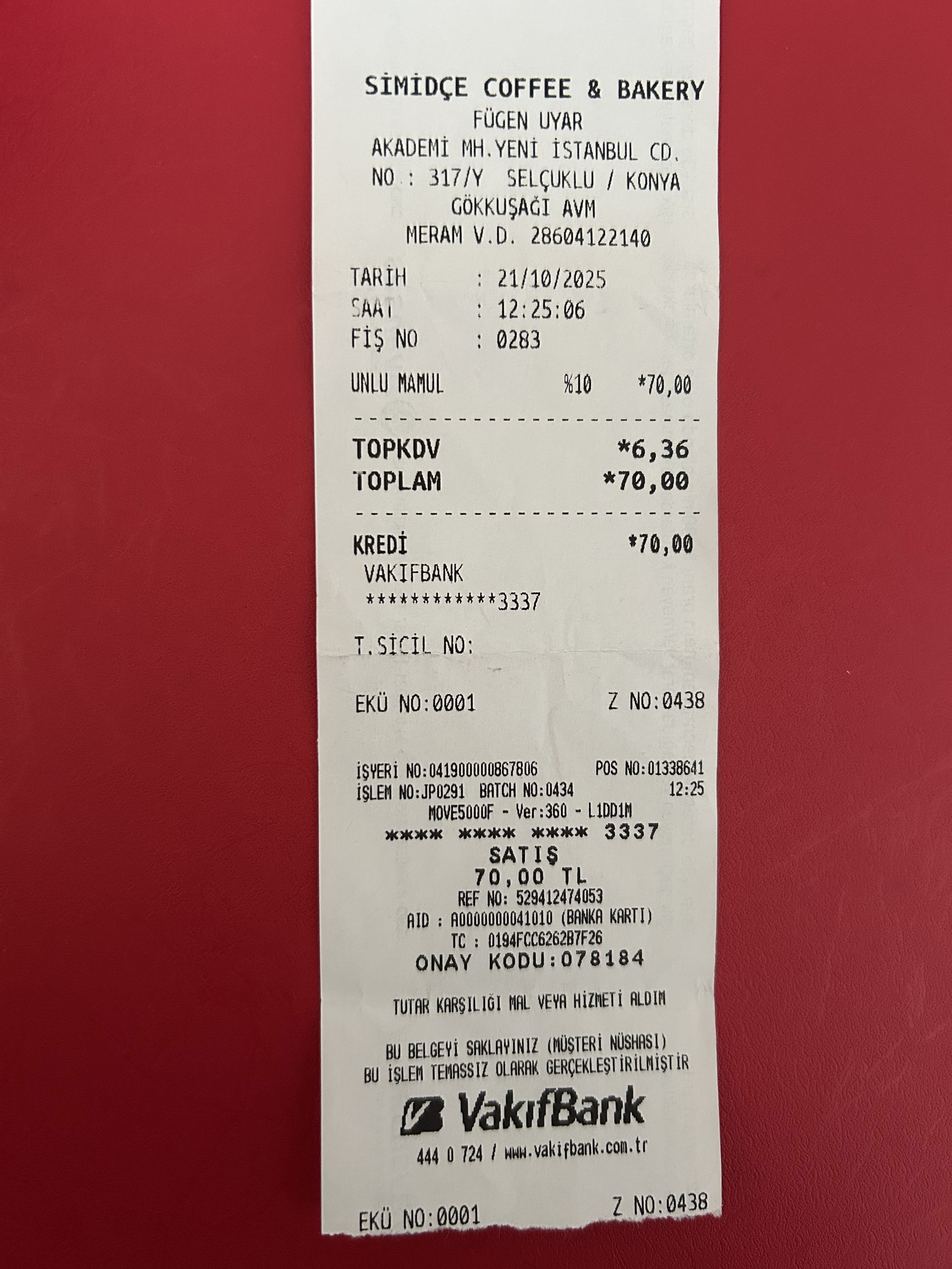date: (614, 462, 703, 505)
price: (489, 261, 612, 291)
workplace: (350, 67, 711, 221)
